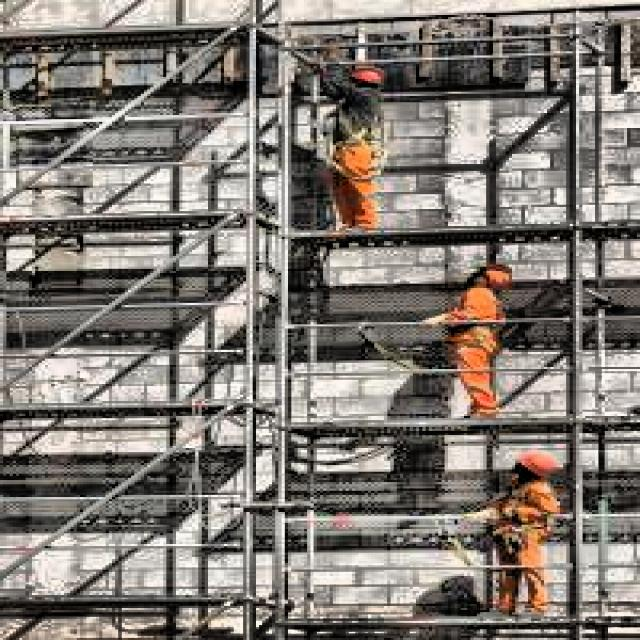helmet: (506, 442, 566, 480), (336, 60, 397, 96), (464, 260, 518, 294)
